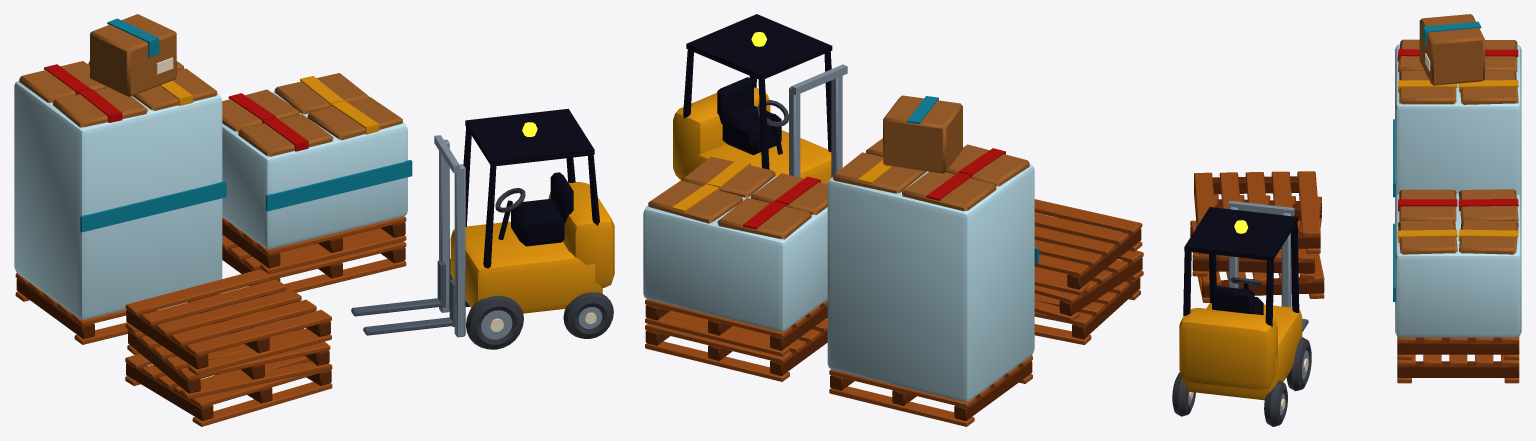
The model's file is PalletStack.fbx.
The picture shows the model from 3 angles, left to right: view 1: azimuth 30°, elevation 25°; view 2: azimuth 150°, elevation 25°; view 3: azimuth 270°, elevation 25°; orthographic projection. The views are drawn at different scales.
Visible parts, largest first — view 1: PalletStack; view 2: PalletStack; view 3: PalletStack.
Part boxes in pixels (<box>): PalletStack: <box>14,14,614,426</box>; PalletStack: <box>643,14,1143,426</box>; PalletStack: <box>1172,14,1521,426</box>.
Bounding box in the file's own units: 7.59 × 4.55 × 5.74.
